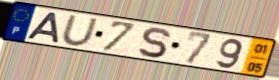7: (102, 19, 139, 53), (186, 30, 214, 66)
9: (215, 38, 244, 71)
A: (24, 11, 62, 45)
S: (136, 26, 172, 59)
U: (60, 14, 100, 48)
